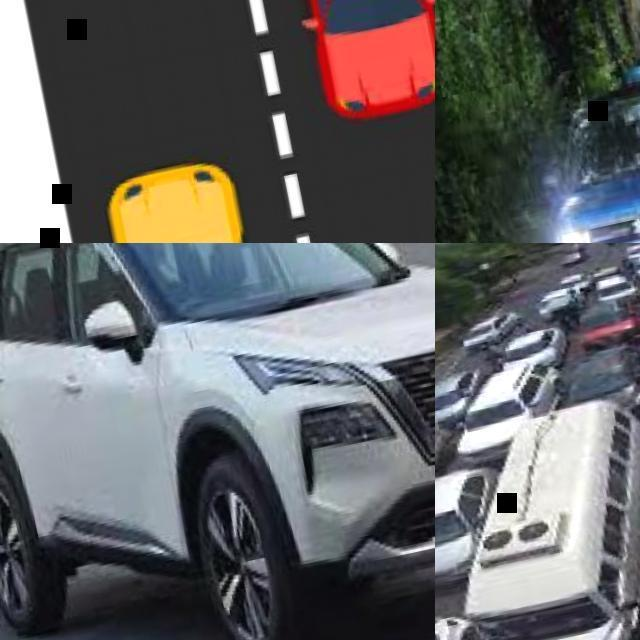car: (1, 241, 427, 638), (432, 250, 639, 634)
